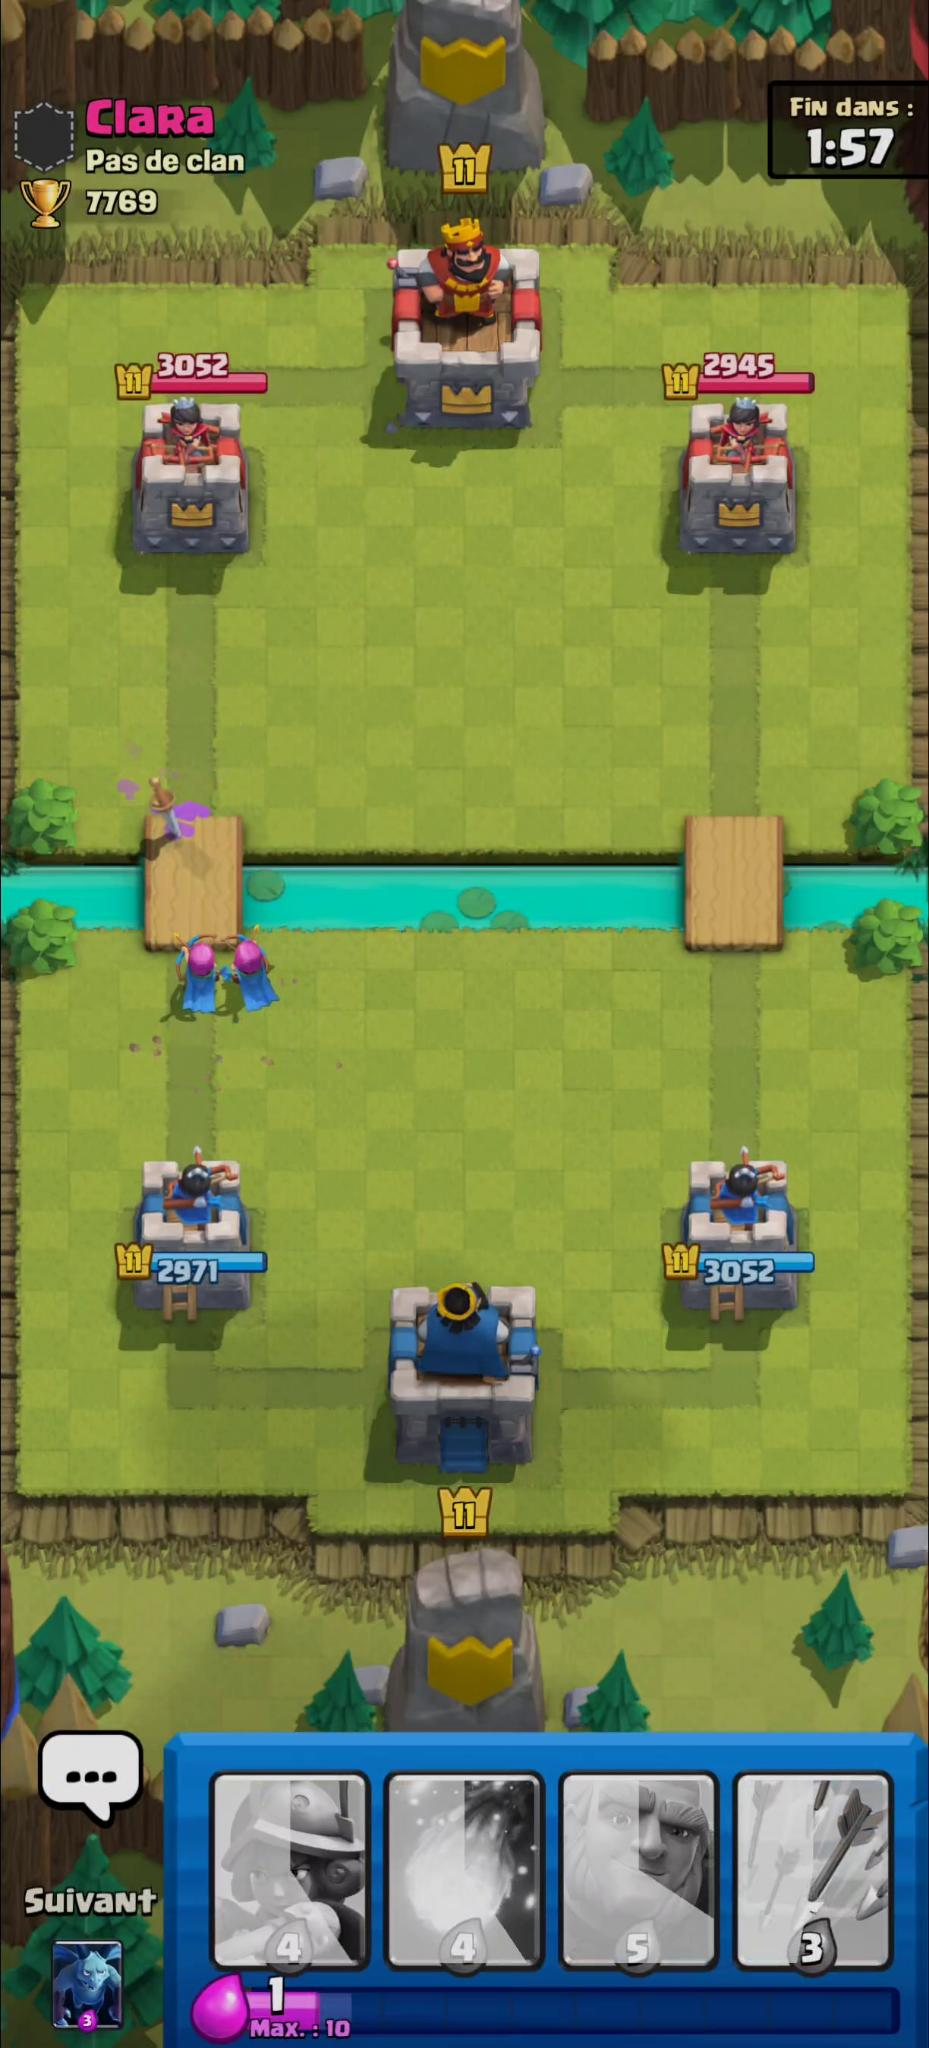archere: (220, 927, 284, 1014), (170, 927, 225, 1019)
